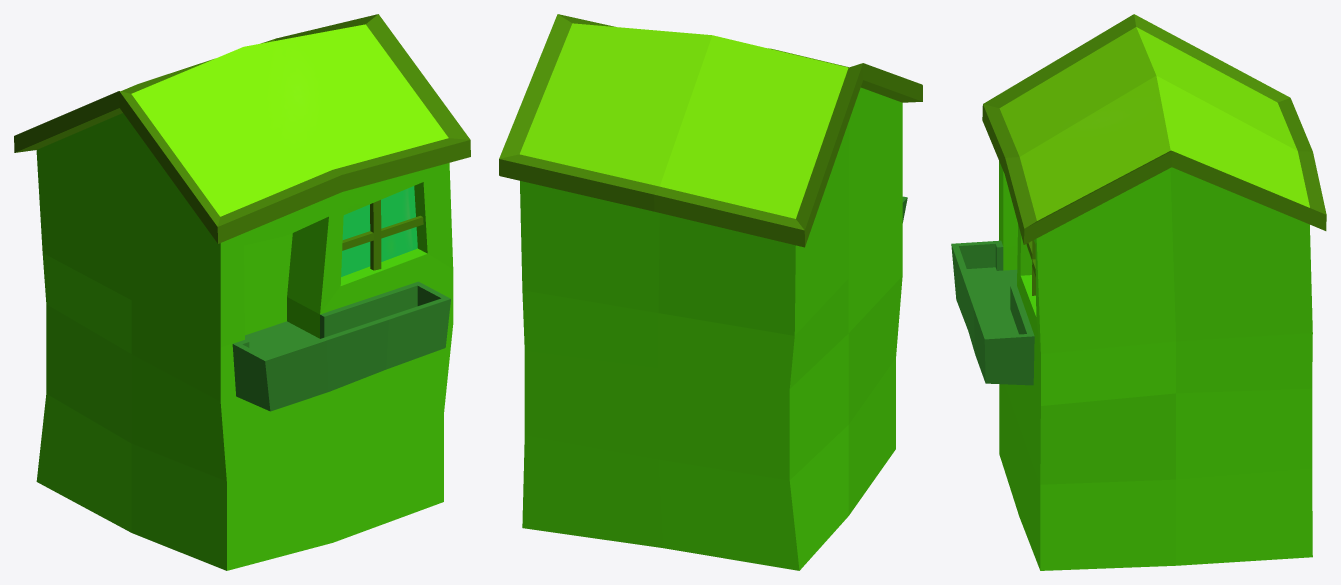
The model's file is edificio4.fbx.
The picture shows the model from 3 angles, left to right: view 1: azimuth 30°, elevation 25°; view 2: azimuth 150°, elevation 25°; view 3: azimuth 270°, elevation 25°; orthographic projection. The views are drawn at different scales.
Parts seen in each view (by area): view 1: edificio4; view 2: edificio4; view 3: edificio4.
Boxes of the visible parts, <box> form: edificio4: <box>14,14,470,570</box>; edificio4: <box>499,14,922,570</box>; edificio4: <box>951,14,1326,570</box>.
Size of the model in its own units: 3747 by 5039 by 3965.
